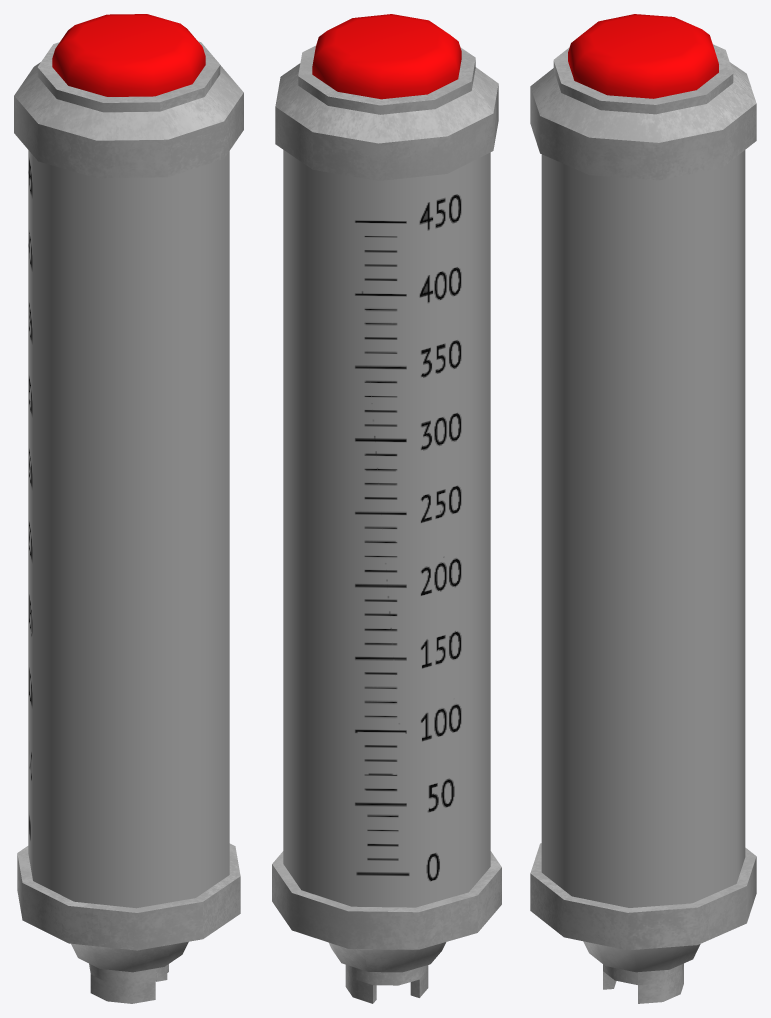
The model's file is Vial - Textures.gltf.
3 views of the same model, side by side, from view 1: azimuth 30°, elevation 25°; view 2: azimuth 150°, elevation 25°; view 3: azimuth 270°, elevation 25° (orthographic).
Visible parts, largest first — view 1: Cylinder; view 2: Cylinder; view 3: Cylinder.
Part boxes in pixels (bbox=[...]): Cylinder: bbox=[14, 14, 243, 1003]; Cylinder: bbox=[272, 14, 501, 1003]; Cylinder: bbox=[530, 14, 756, 1003].
Bounding box in the file's own units: 2.2 × 10.11 × 2.19.
Materials: 1 (1 with a texture image).
